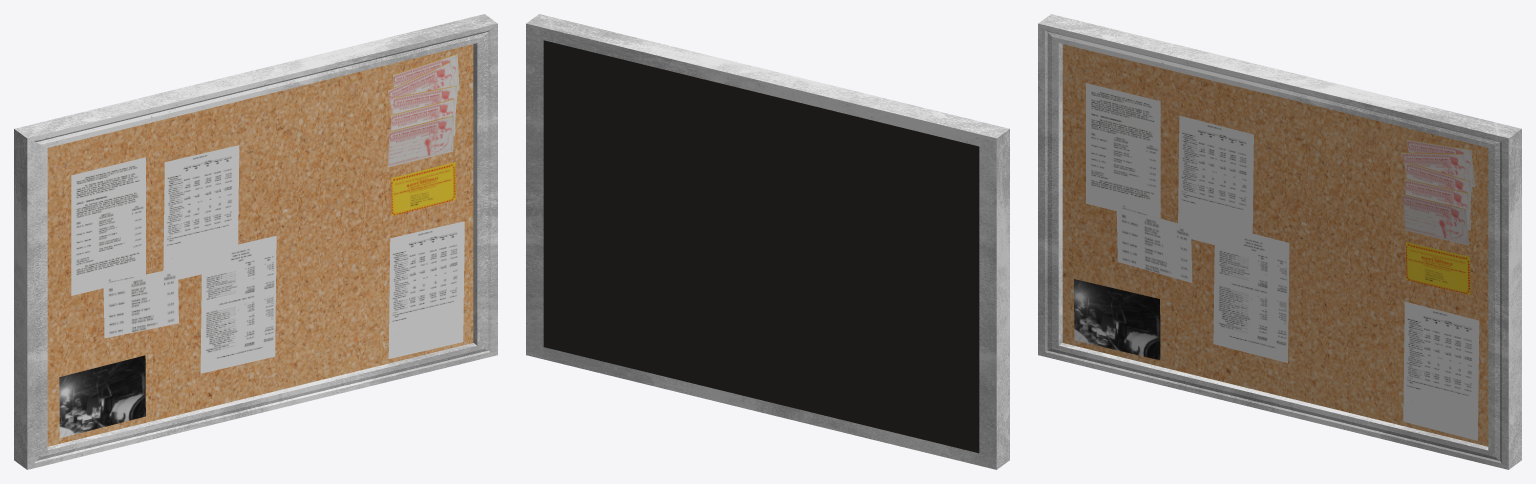
File: Corkboard 3.fbx
3 renders of one model, left to right at view 1: azimuth 30°, elevation 25°; view 2: azimuth 150°, elevation 25°; view 3: azimuth 330°, elevation 25°, orthographic.
Visible parts, largest first — view 1: Plane.005; view 2: Plane.005; view 3: Plane.005.
Boxes of the visible parts, x1=… form: Plane.005: x1=14, y1=14, x2=497, y2=469; Plane.005: x1=526, y1=14, x2=1009, y2=469; Plane.005: x1=1038, y1=14, x2=1521, y2=469.
Size of the model in its own units: 102 by 68.54 by 4.92.
